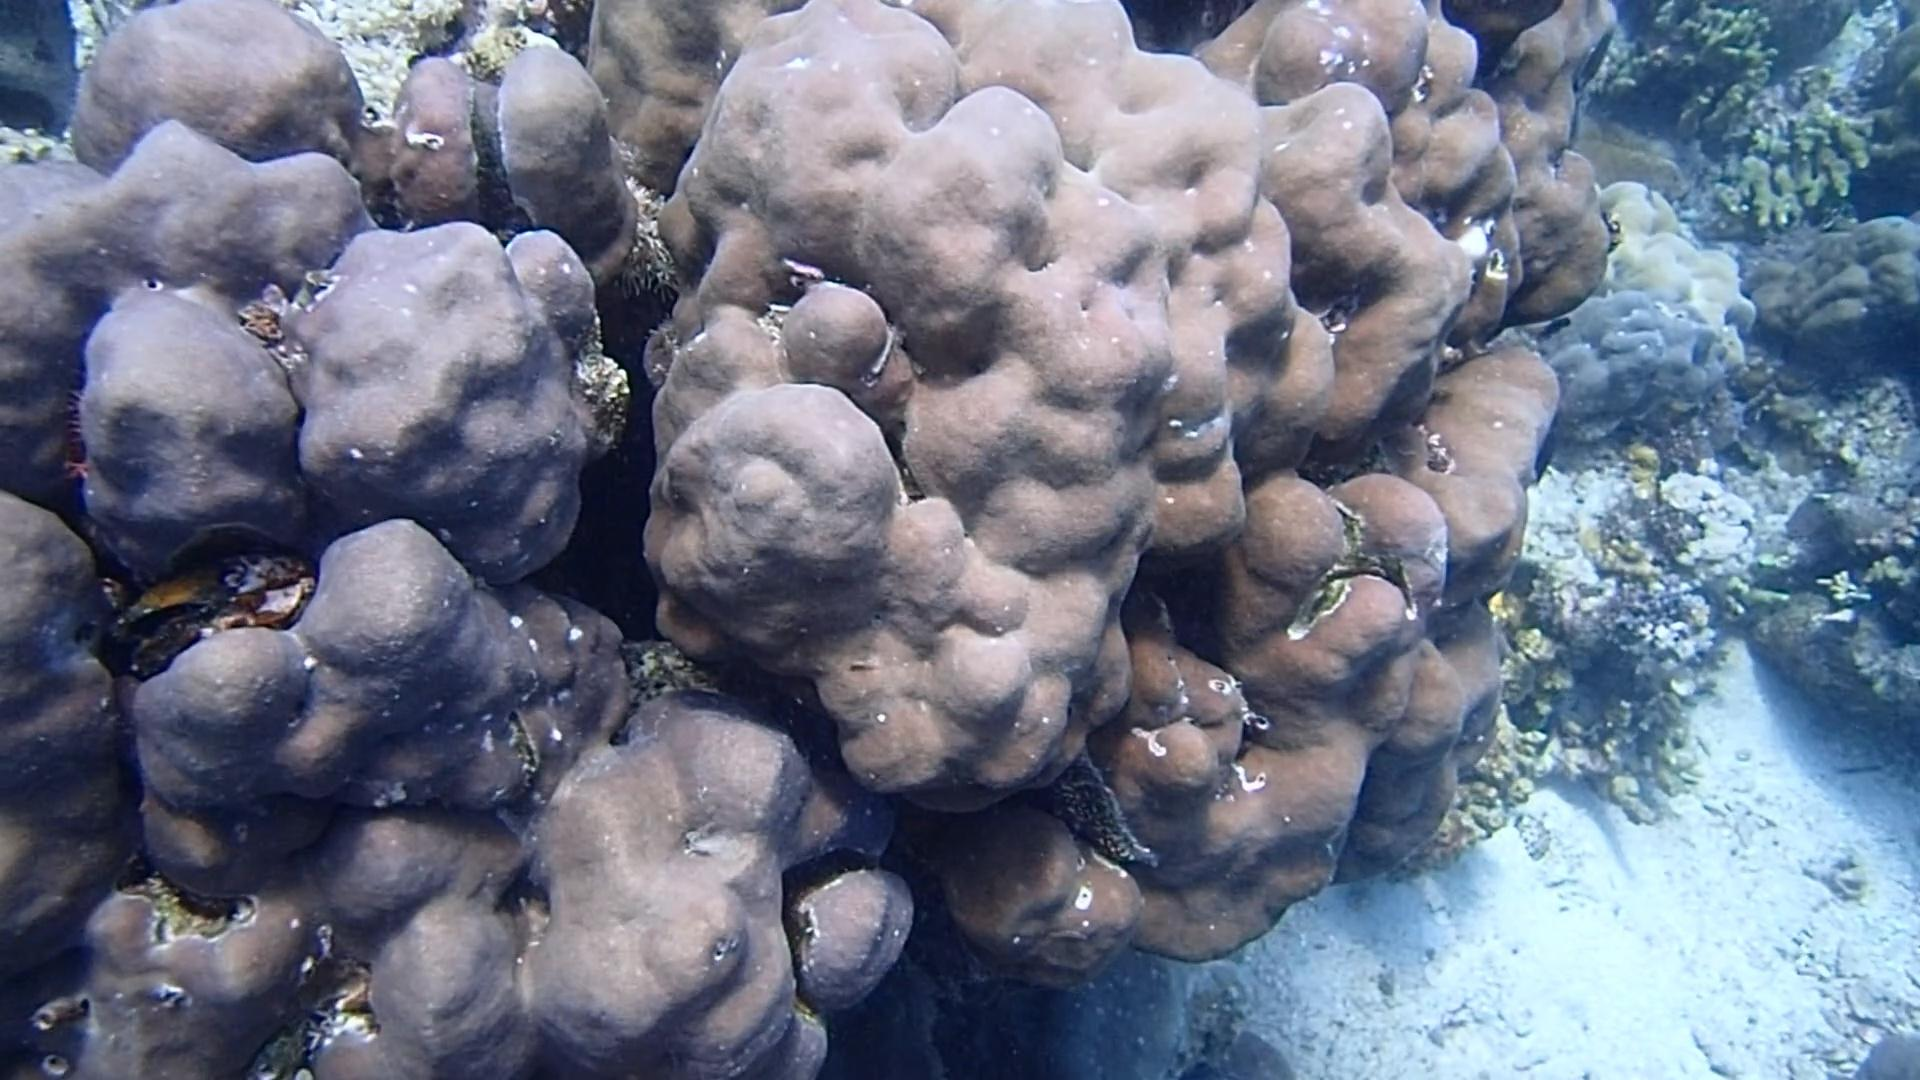Dark Fish: (1530, 311, 1584, 347)
